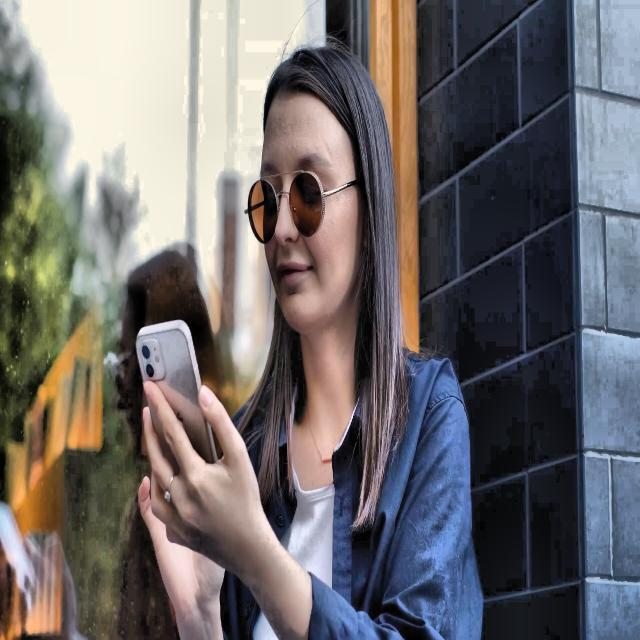Phone: (137, 316, 220, 476)
